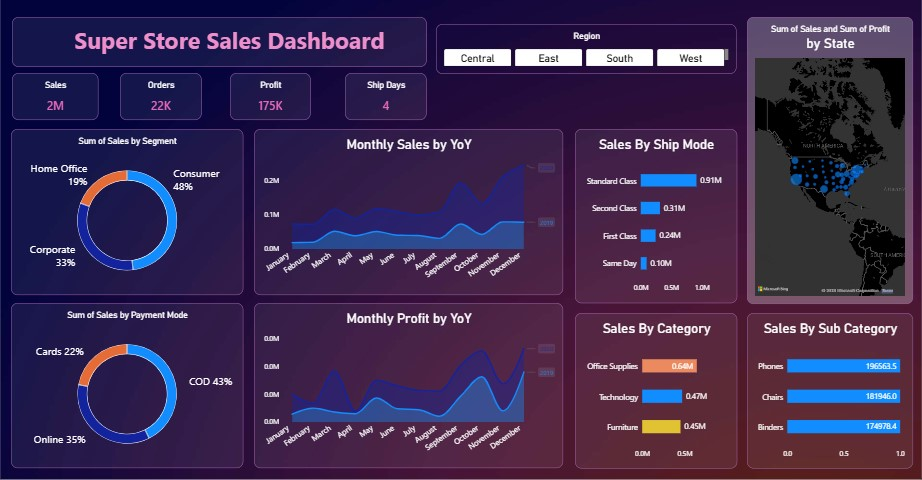

Layout of this report page (visuals, bound fields, positions):
{"tool":"powerbi","page":{"name":"SSS Dashboard","canvas":[1920,1080],"ordinal":0},"visuals":[{"type":"clusteredBarChart","fields":{"Category":["Sheet1.Sub-Category"],"Y":["Sum(Sheet1.Sales)"]},"box":[1556,690,346,324],"z":0},{"type":"clusteredBarChart","fields":{"Category":["Sheet1.Category"],"Y":["Sum(Sheet1.Sales)"]},"box":[1198,690,338,324],"z":1000},{"type":"clusteredBarChart","fields":{"Category":["Sheet1.Ship Mode"],"Y":["Sum(Sheet1.Sales)"]},"box":[1198.8,306.5,337.8,362.8],"z":2000},{"type":"stackedAreaChart","fields":{"Category":["Sheet1.Order Date.Variation.Date Hierarchy.Month","Sheet1.Order Date.Variation.Date Hierarchy.Day"],"Series":["Sheet1.Order Date.Variation.Date Hierarchy.Year"],"Y":["Sum(Sheet1.Sales)"]},"box":[530,306,644,346],"z":3000},{"type":"stackedAreaChart","fields":{"Category":["Sheet1.Order Date.Variation.Date Hierarchy.Month","Sheet1.Order Date.Variation.Date Hierarchy.Day"],"Series":["Sheet1.Order Date.Variation.Date Hierarchy.Year"],"Y":["Sum(Sheet1.Profit)"]},"box":[529.6,669.3,644.2,344],"z":4000},{"type":"map","fields":{"Category":["Sheet1.State"],"Size":["Sum(Sheet1.Sales)"]},"box":[1556,72,346,598],"z":5000},{"type":"donutChart","title":"Sum of Sales by Segment","fields":{"Category":["Sheet1.Segment"],"Y":["Sum(Sheet1.Sales)"]},"box":[22,306,484,346],"z":6000},{"type":"donutChart","title":"Sum of Sales by Payment Mode","fields":{"Category":["Sheet1.Payment Mode"],"Y":["Sum(Sheet1.Sales)"]},"box":[22.9,669.3,483.7,344],"z":7000},{"type":"advancedSlicerVisual","fields":{"Values":["Sheet1.Region"]},"box":[909,87.6,626,104],"z":8000},{"type":"textbox","box":[24,72,864,104],"z":9000},{"type":"cardVisual","title":"Sales","fields":{"Data":["Sum(Sheet1.Sales)"]},"box":[24,190,180,98],"z":10000},{"type":"cardVisual","title":"Orders","fields":{"Data":["Sum(Sheet1.Quantity)"]},"box":[250,190,170,98],"z":11000},{"type":"cardVisual","title":"Profit","fields":{"Data":["Sum(Sheet1.Profit)"]},"box":[480,190,168,98],"z":12000},{"type":"cardVisual","title":"Ship Days","fields":{"Data":["Avg(Sheet1.AvgDelivery)"]},"box":[718,190,170,98],"z":13000}]}

Visuals, with their boxes on the page's 1920x1080 design canvas (x1, y1, x2, y2). These are canvas units, not pixel positions in the 922x480 screenshot, which may show the page scaled, cropped or inside an application window:
clusteredBarChart - Sheet1.Sub-Category x Sum(Sheet1.Sales): box(1556, 690, 1902, 1014)
clusteredBarChart - Sheet1.Category x Sum(Sheet1.Sales): box(1198, 690, 1536, 1014)
clusteredBarChart - Sheet1.Ship Mode x Sum(Sheet1.Sales): box(1199, 306, 1537, 669)
stackedAreaChart - Sheet1.Order Date.Variation.Date Hierarchy.Month x Sheet1.Order Date.Variation.Date Hierarchy.Day: box(530, 306, 1174, 652)
stackedAreaChart - Sheet1.Order Date.Variation.Date Hierarchy.Month x Sheet1.Order Date.Variation.Date Hierarchy.Day: box(530, 669, 1174, 1013)
map - Sheet1.State x Sum(Sheet1.Sales): box(1556, 72, 1902, 670)
"Sum of Sales by Segment" donutChart: box(22, 306, 506, 652)
"Sum of Sales by Payment Mode" donutChart: box(23, 669, 507, 1013)
advancedSlicerVisual - Sheet1.Region: box(909, 88, 1535, 192)
textbox: box(24, 72, 888, 176)
"Sales" cardVisual: box(24, 190, 204, 288)
"Orders" cardVisual: box(250, 190, 420, 288)
"Profit" cardVisual: box(480, 190, 648, 288)
"Ship Days" cardVisual: box(718, 190, 888, 288)
